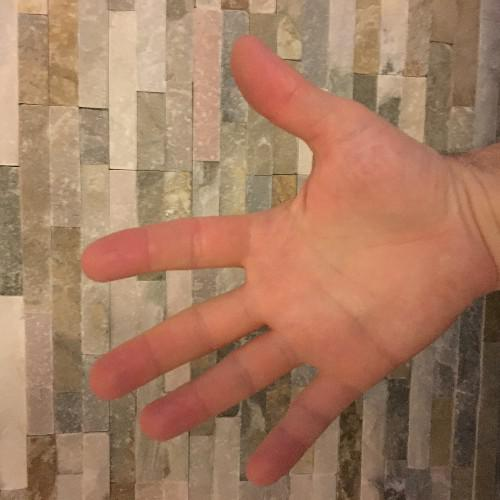paper: (71, 30, 482, 491)
